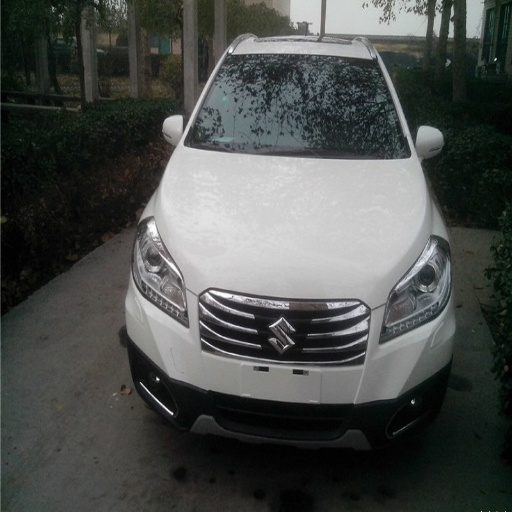front_bumper: (125, 287, 455, 443)
front_right_light: (133, 216, 188, 324)
hood: (159, 147, 428, 305)
